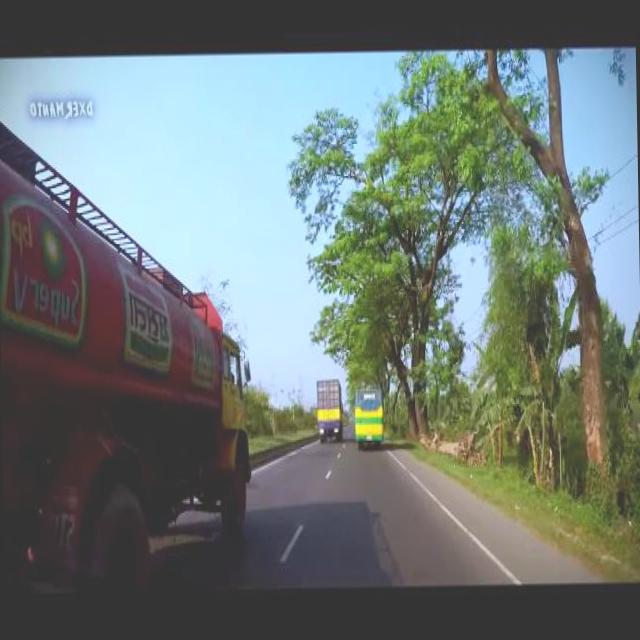bus: (350, 380, 389, 450)
truck: (0, 113, 257, 563), (310, 378, 347, 443)
